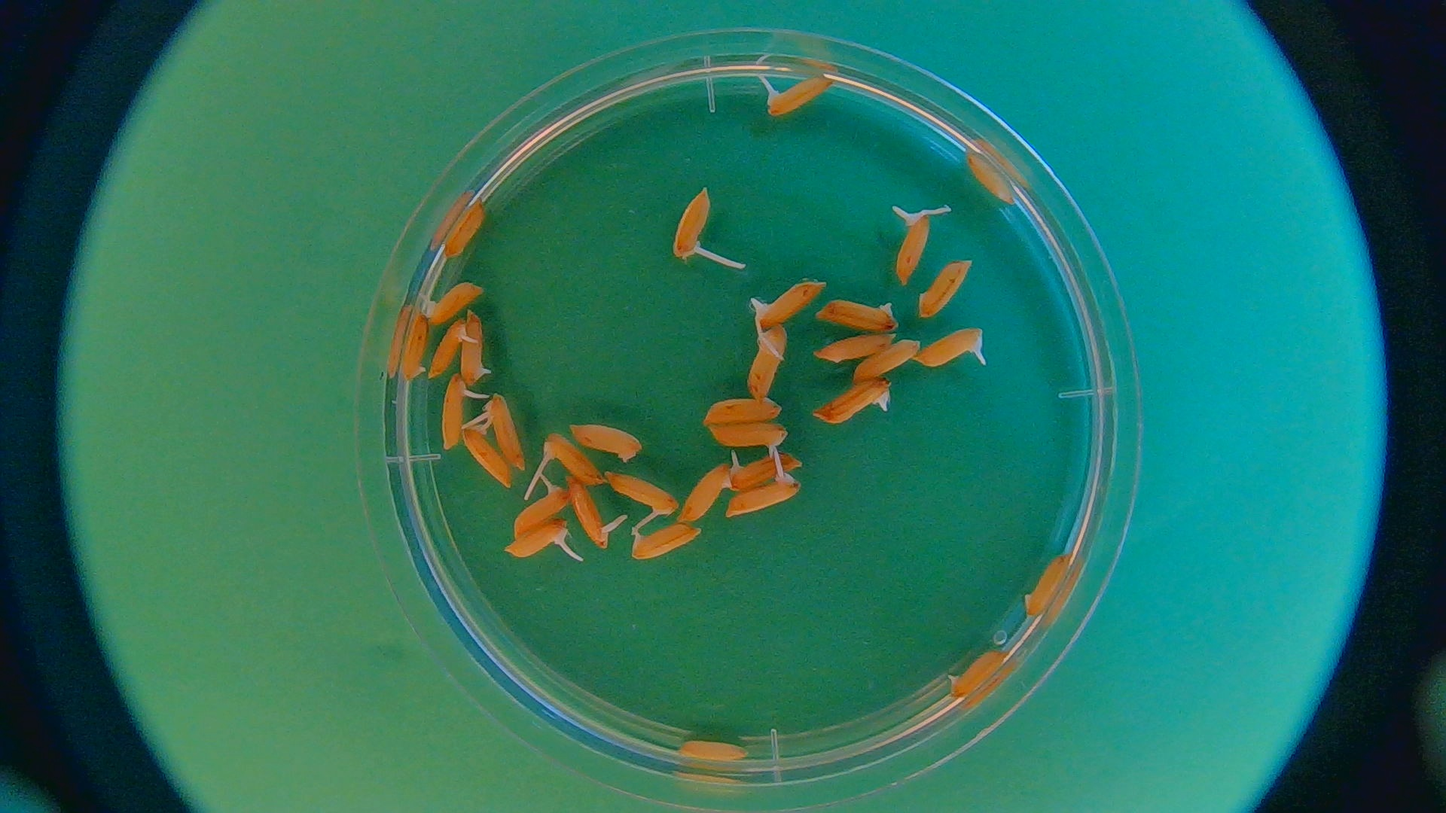no: (813, 376, 891, 424), (678, 462, 737, 525), (748, 324, 793, 398), (919, 259, 973, 319), (707, 418, 788, 458), (1022, 553, 1071, 617), (962, 148, 1016, 206), (813, 330, 897, 366), (849, 340, 926, 379), (948, 649, 1009, 698), (571, 425, 643, 464), (817, 299, 898, 333), (443, 197, 487, 258), (398, 308, 429, 381), (461, 305, 490, 383), (704, 394, 782, 423), (679, 737, 748, 762)
yes: (503, 522, 588, 566), (725, 477, 800, 526), (724, 448, 806, 490), (631, 518, 703, 564), (892, 204, 933, 282), (673, 187, 714, 263), (513, 480, 571, 532), (486, 394, 525, 470), (464, 429, 511, 492), (606, 474, 676, 516), (913, 328, 988, 367), (760, 279, 823, 325), (428, 283, 485, 327), (568, 489, 609, 550), (545, 435, 600, 480), (429, 320, 470, 379), (441, 379, 474, 452)
